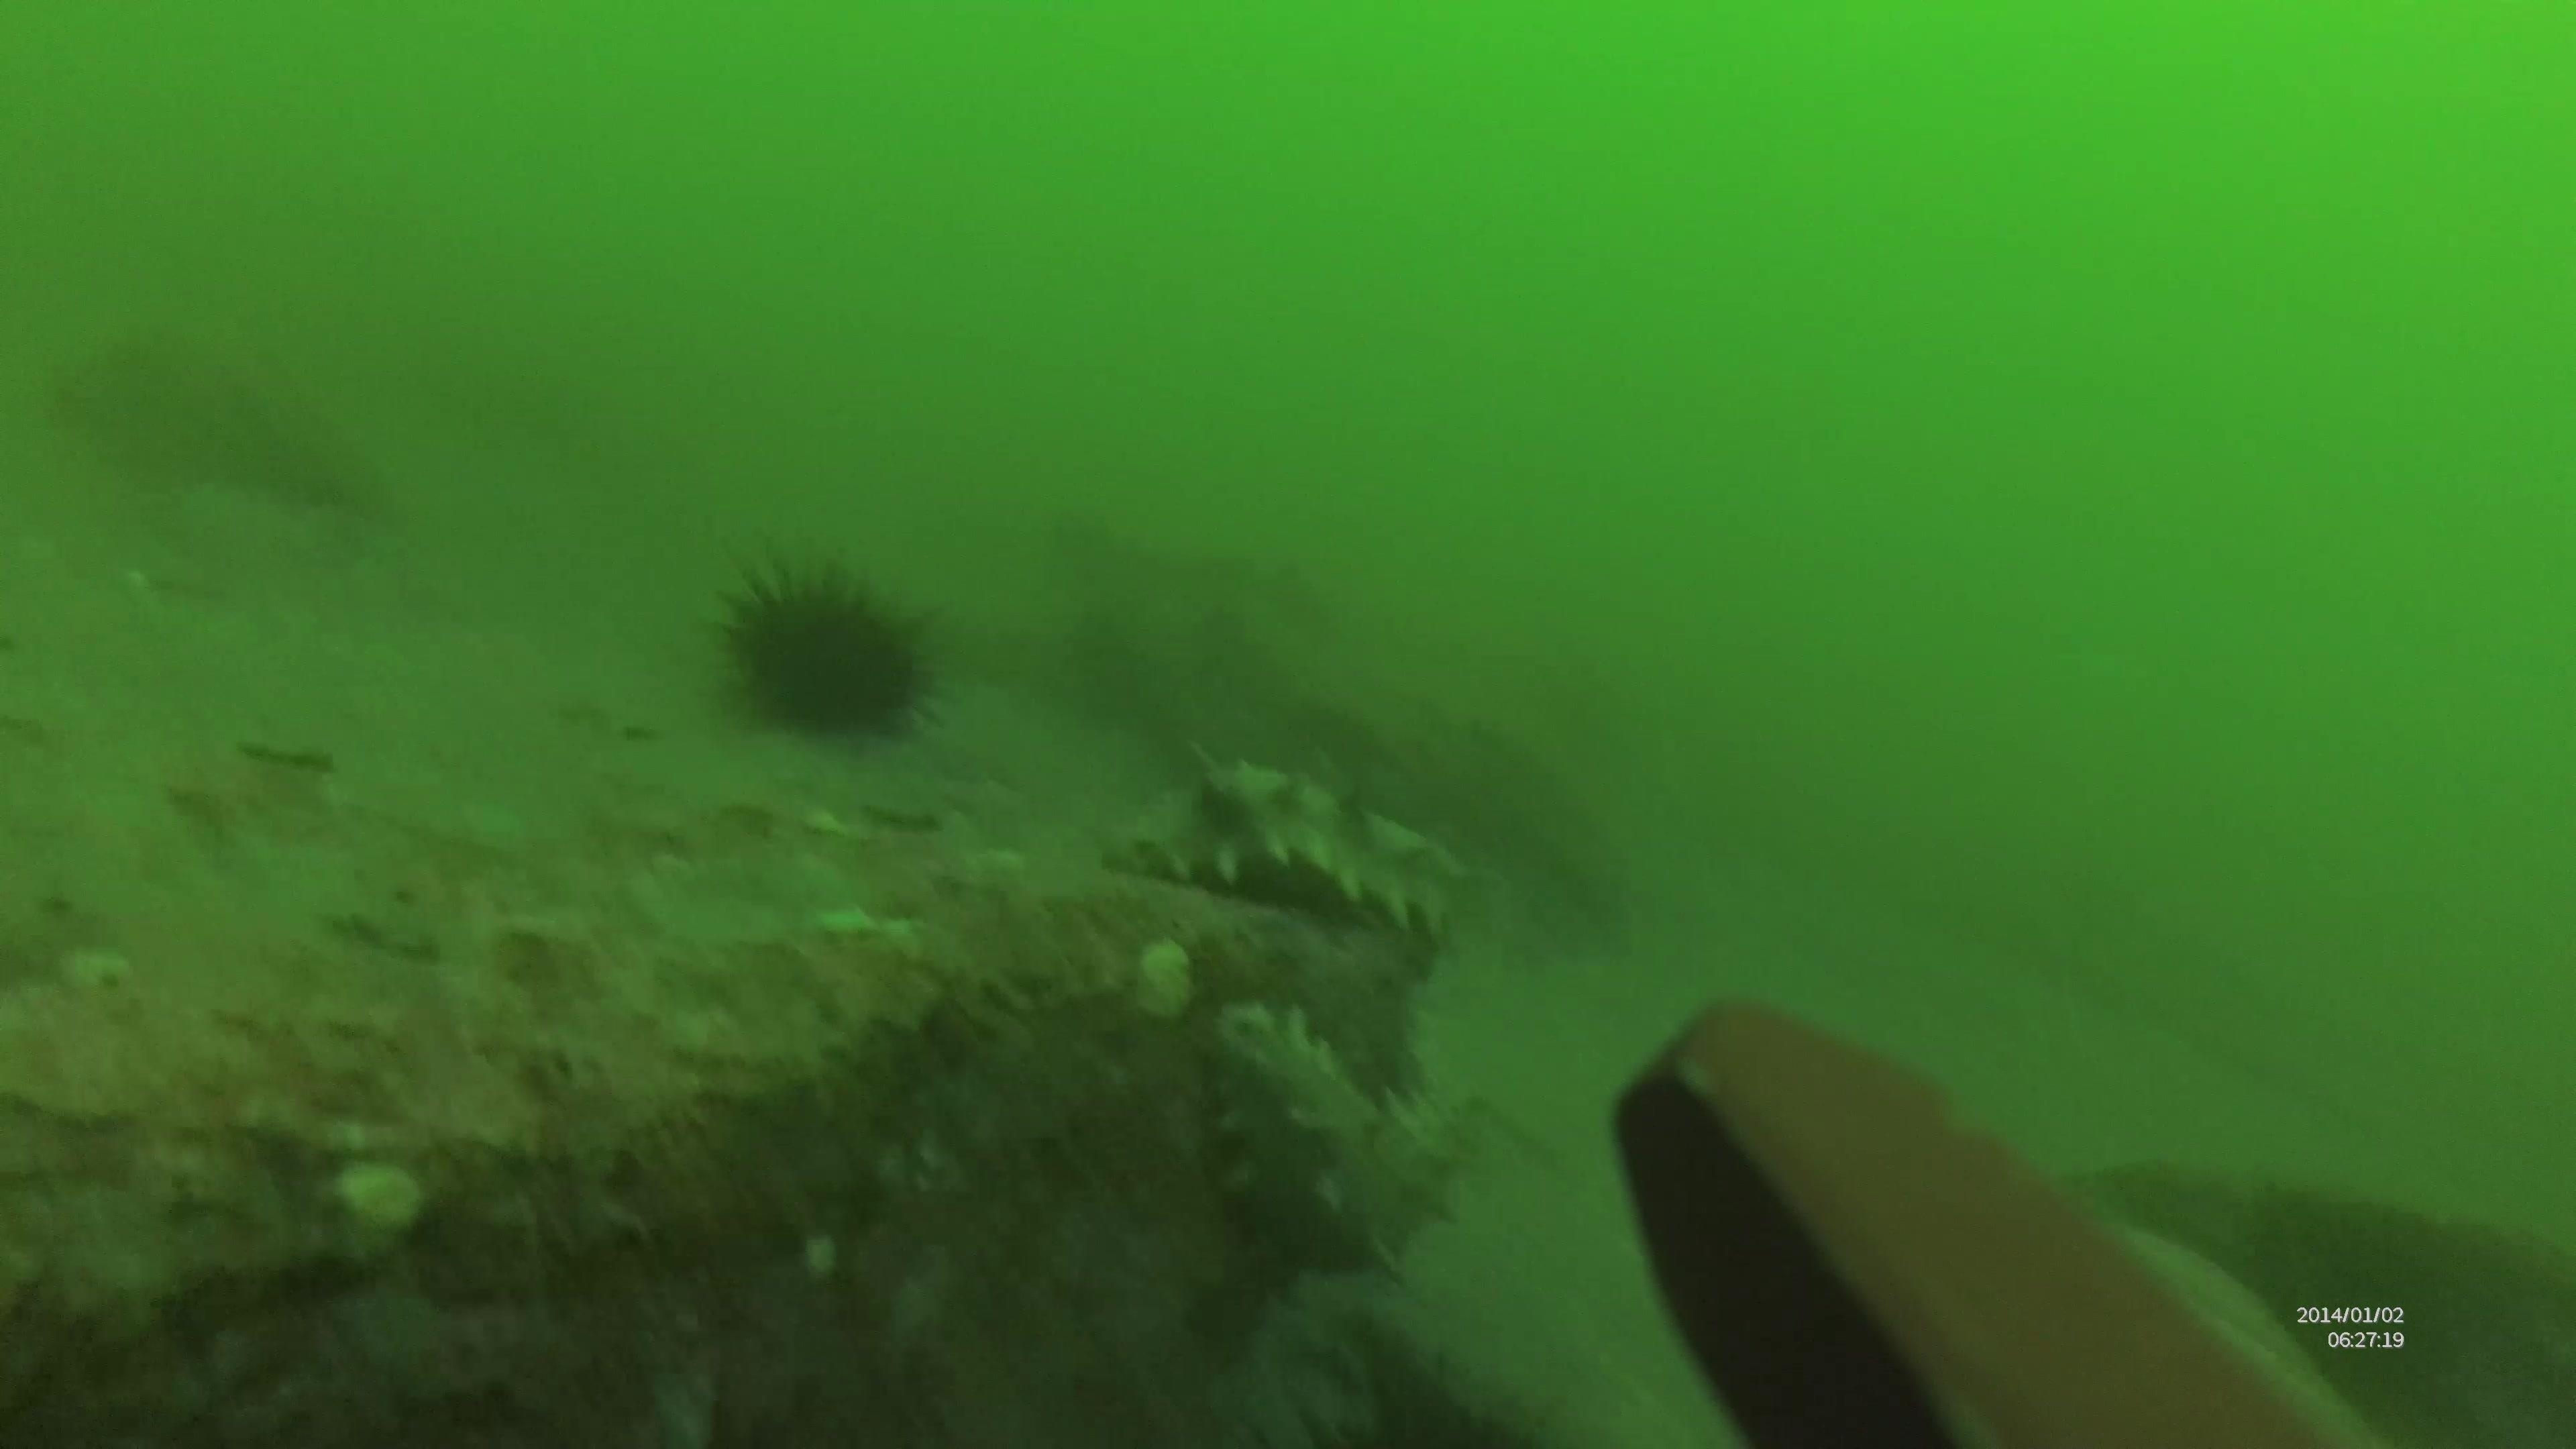echinus: (704, 547, 947, 748)
holothurian: (1200, 996, 1456, 1277), (1099, 754, 1476, 941)
